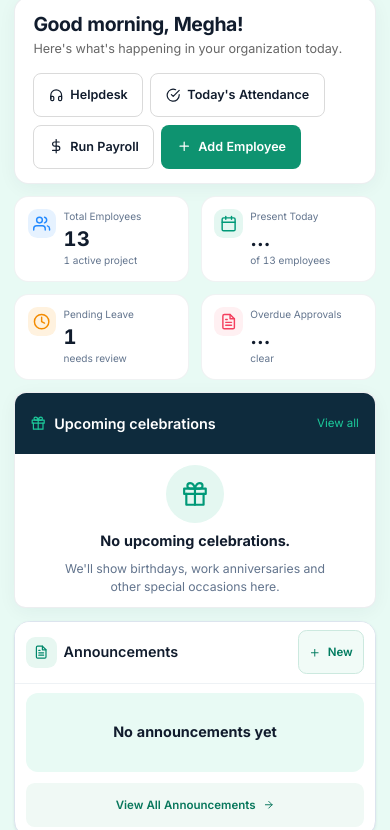
Scenario: Admin dashboard reference layout and overlays › opens {} in one on-page overlay
Step 1. Click the button "Total Employees 13 1 active project" → (102, 239), box [14,196,189,282]
(page scrolled)
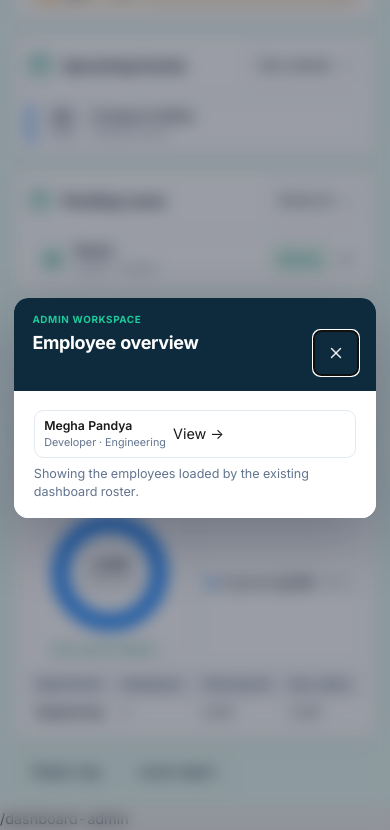
Expected: the text with test id "route" reads "/dashboard-admin", [0,810,129,827]
Now the number of dialogs is 1, box [14,298,376,518]
Step 2. Press Escape
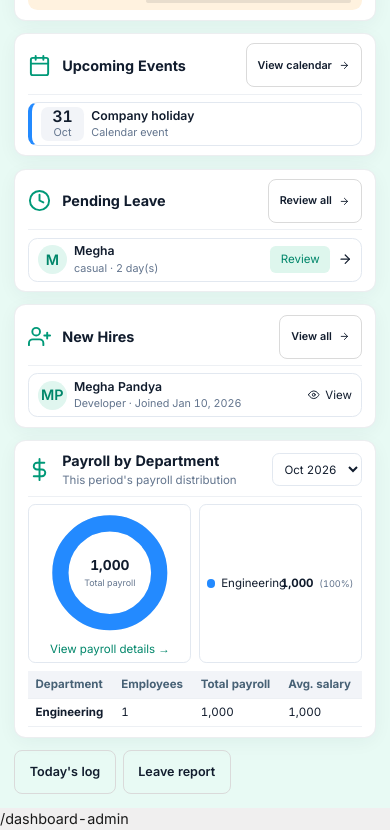
Now the dialog is gone
